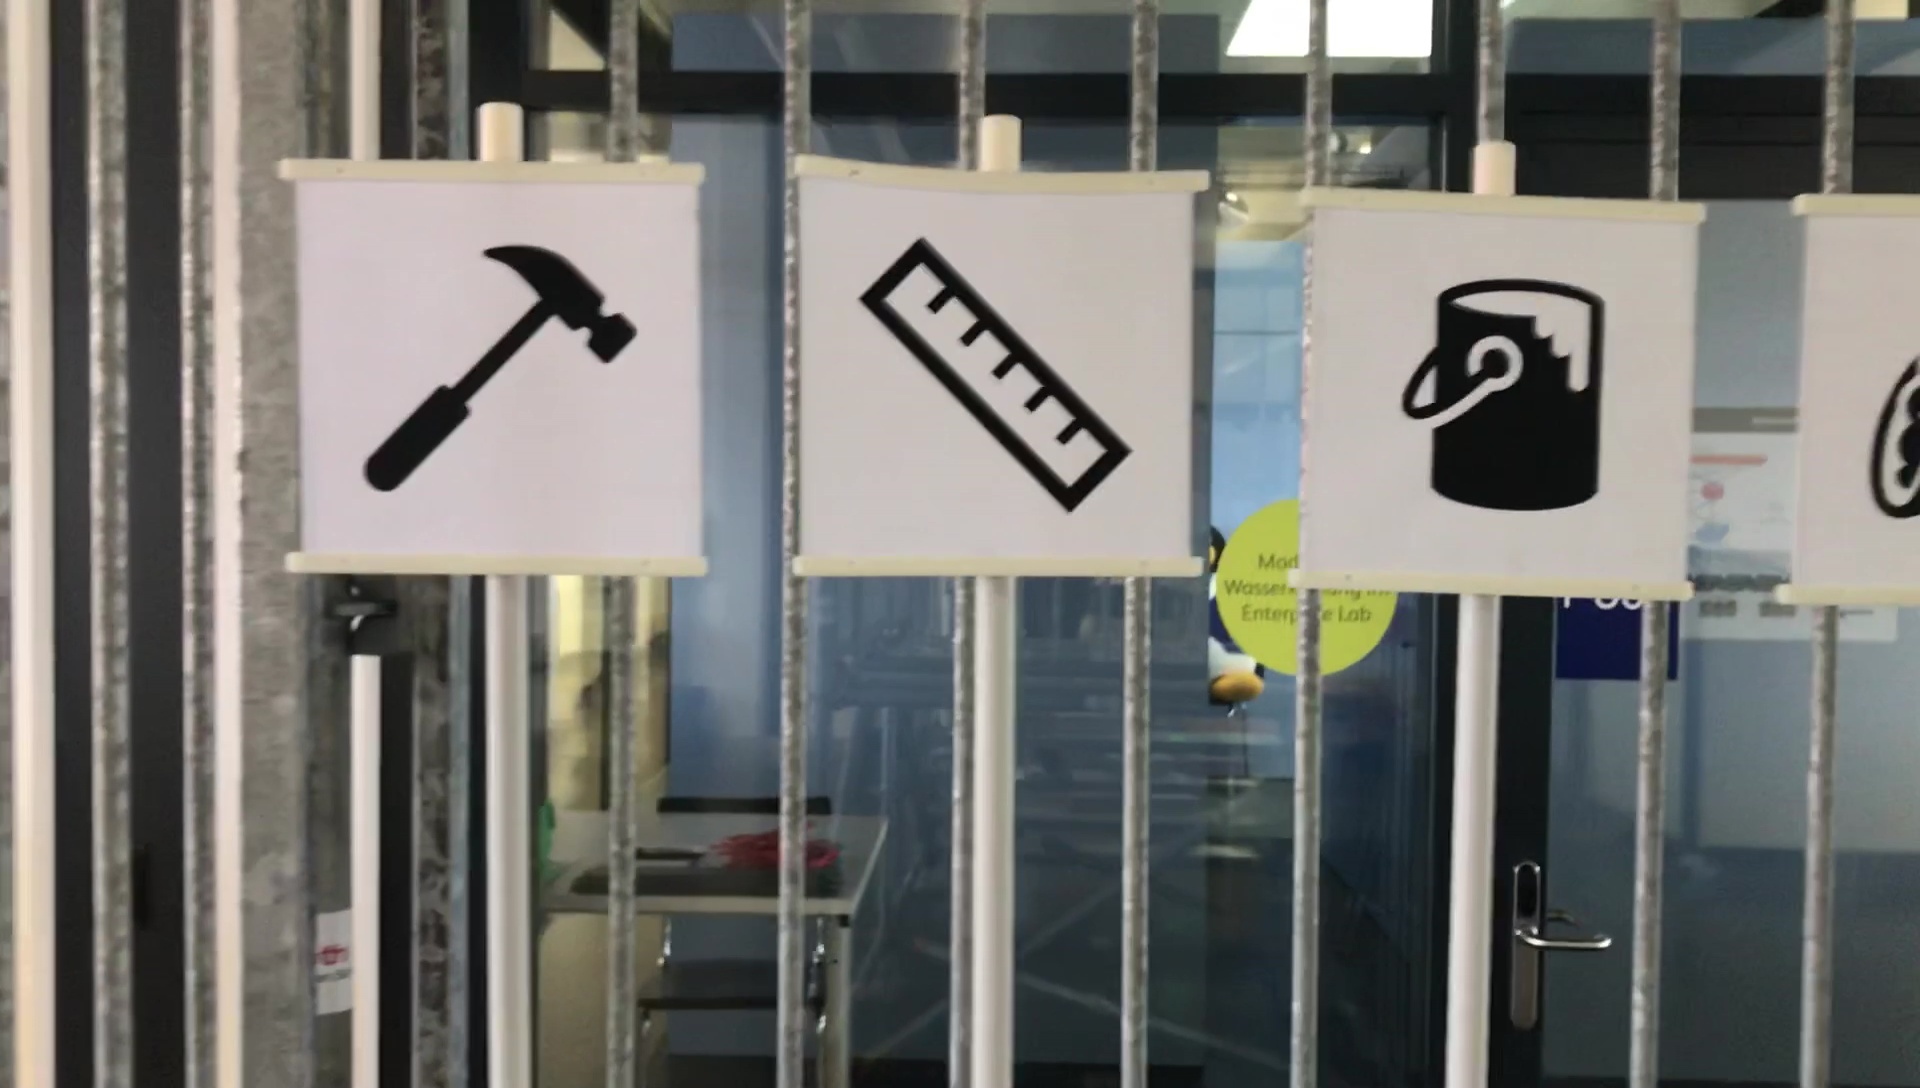bucket: (1400, 266, 1625, 514)
hammer: (356, 224, 645, 495)
ruler: (856, 233, 1153, 513)
